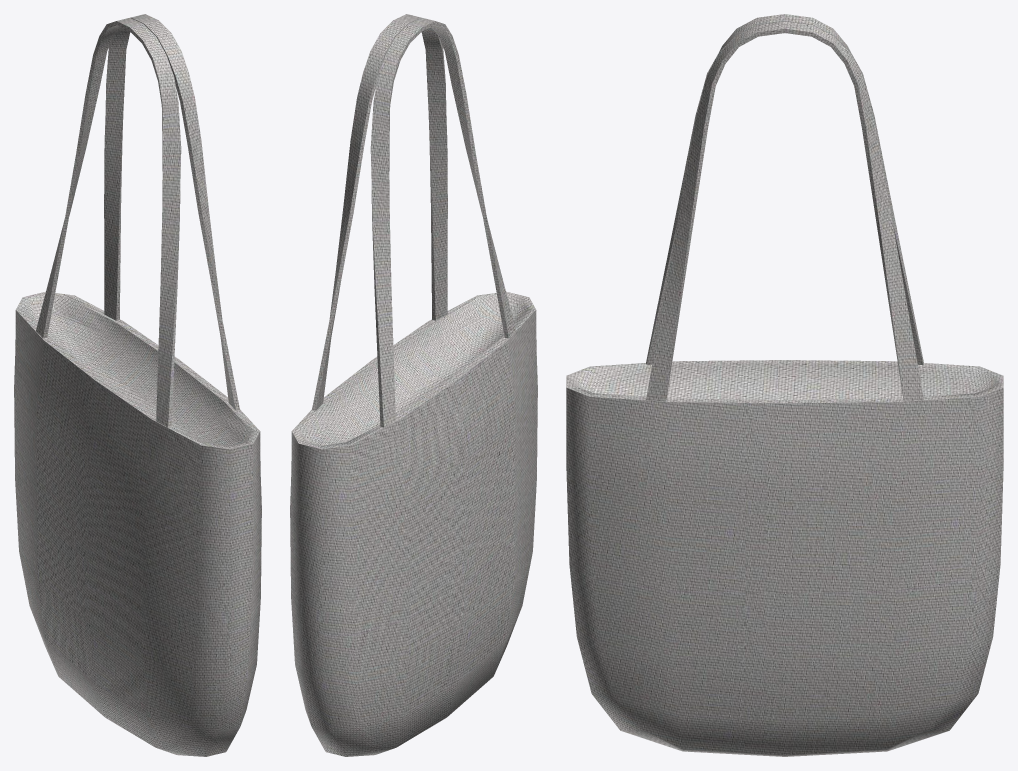
File: bao.FBX
3 views of the same model, side by side, from view 1: azimuth 30°, elevation 25°; view 2: azimuth 150°, elevation 25°; view 3: azimuth 270°, elevation 25° (orthographic). The views are drawn at different scales.
Visible parts, largest first — view 1: bao; view 2: bao; view 3: bao.
Boxes of the visible parts, x1,y1,x2,y2 form: bao: [14, 14, 261, 756]; bao: [290, 14, 537, 756]; bao: [566, 14, 1003, 756].
Bounding box in the file's own units: 8.75 × 55.56 × 30.02.
1 material, 1 textured.
